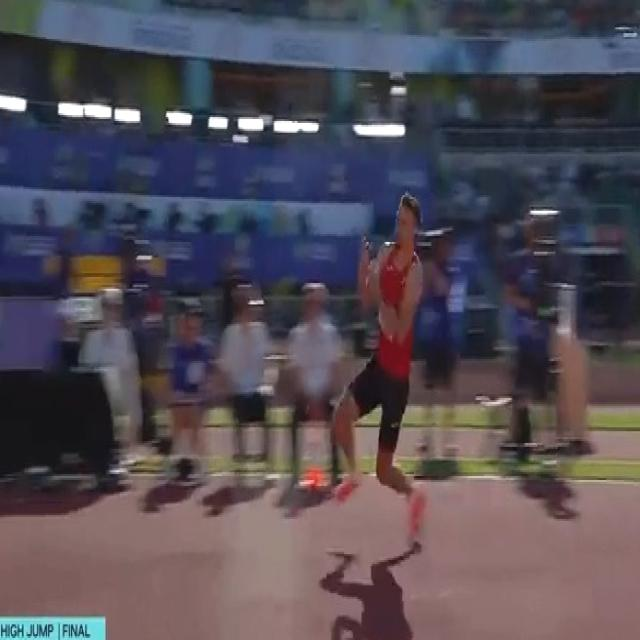run: (334, 193, 429, 544)
